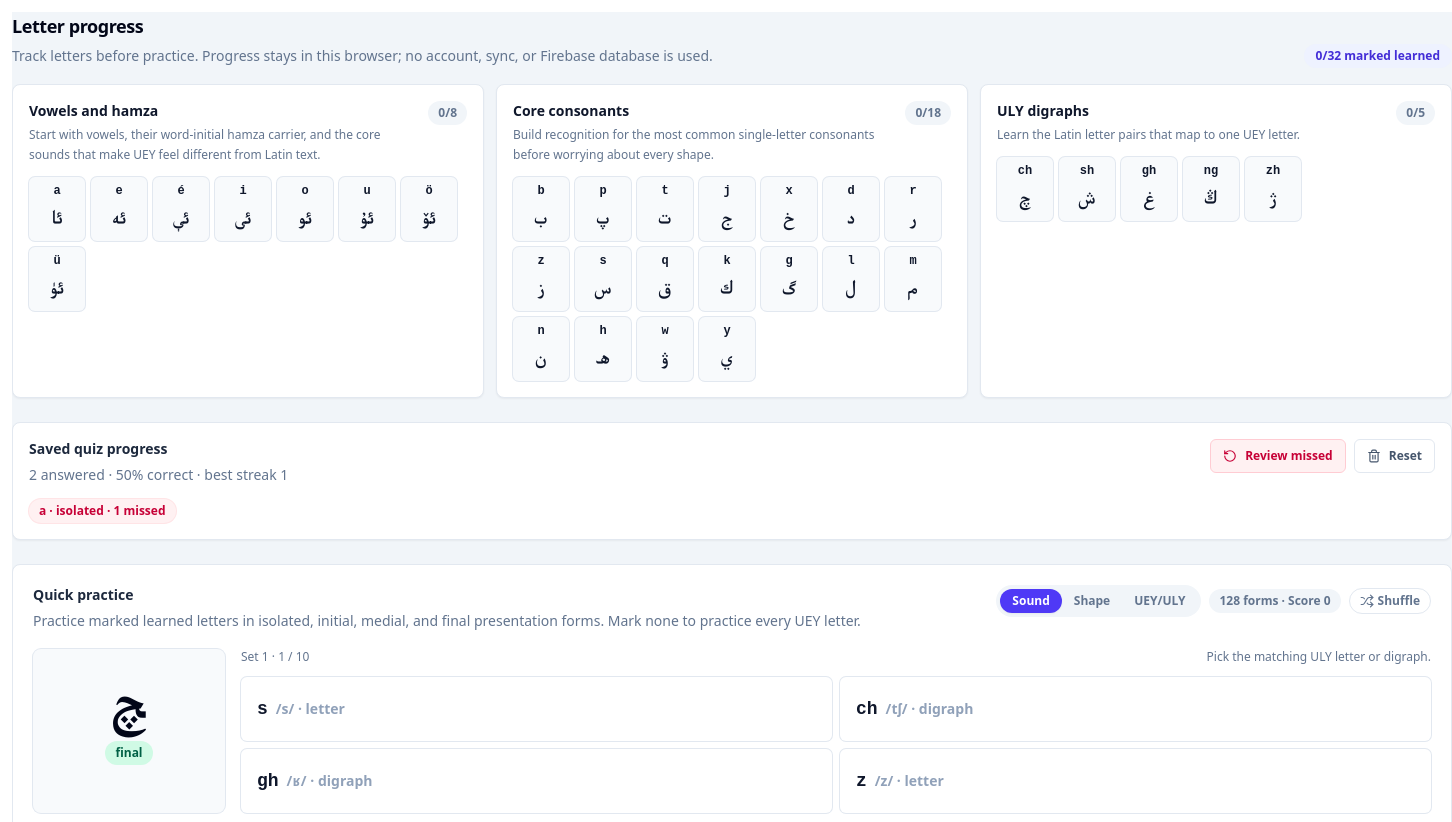
QuizPanel › starts review from saved missed forms
Step 1. Click the button "Review missed" → (1278, 456), box x1=1210 y1=439 x2=1346 y2=473
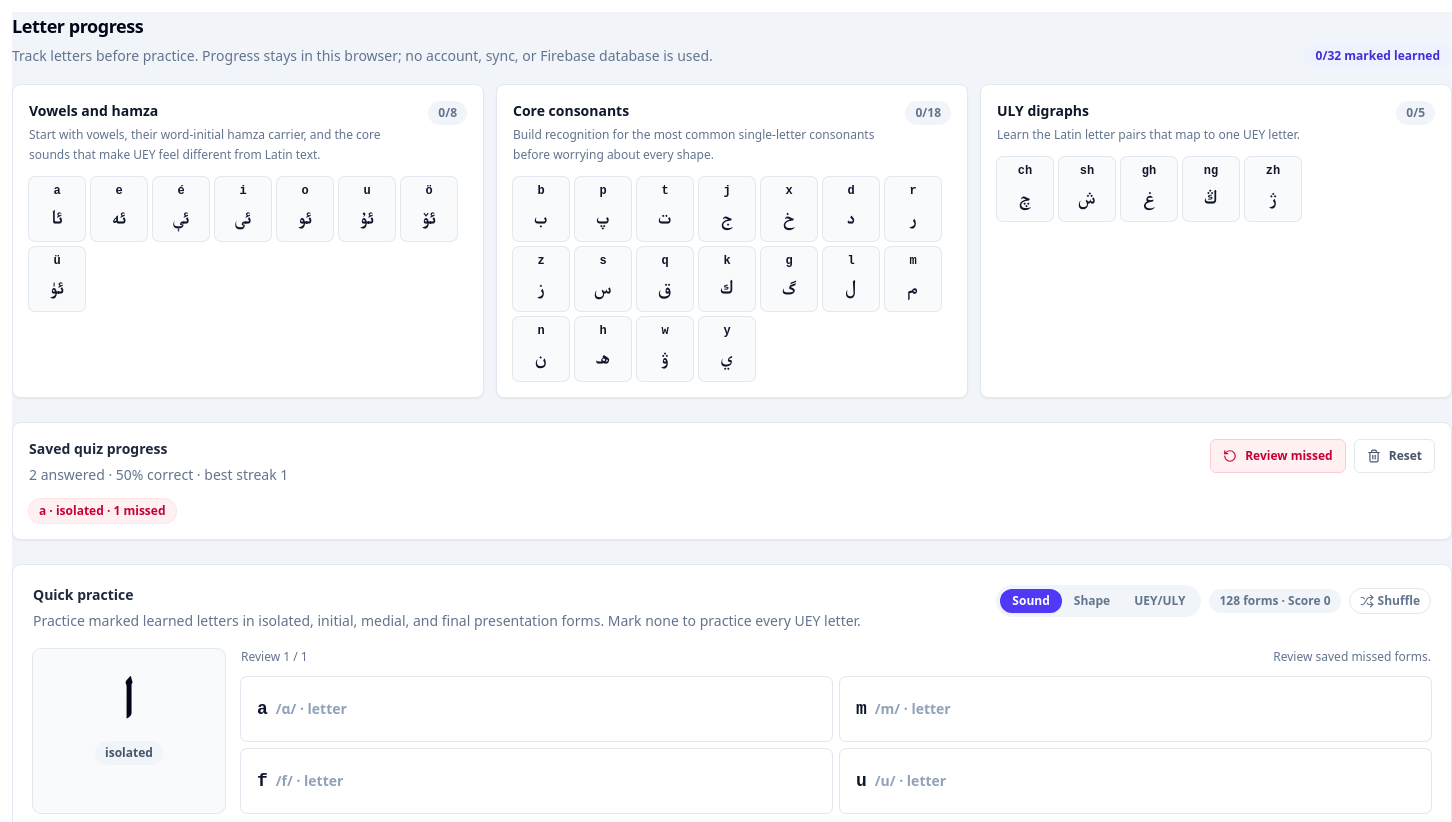
Now the text "Review 1 / 1" is shown, box x1=241 y1=649 x2=308 y2=665
Now the text "Review saved missed forms." is shown, box x1=1273 y1=649 x2=1431 y2=665
